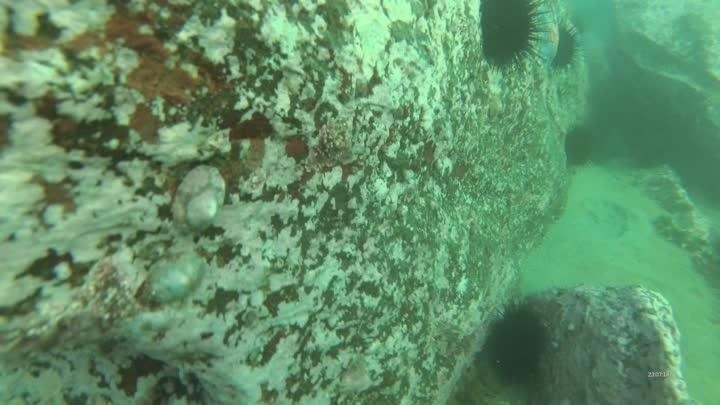echinus: (479, 298, 555, 390), (473, 1, 545, 70), (548, 15, 583, 73), (560, 122, 599, 169)
holothurian: (648, 211, 712, 256), (538, 163, 572, 225)
starfish: (527, 4, 564, 68)
